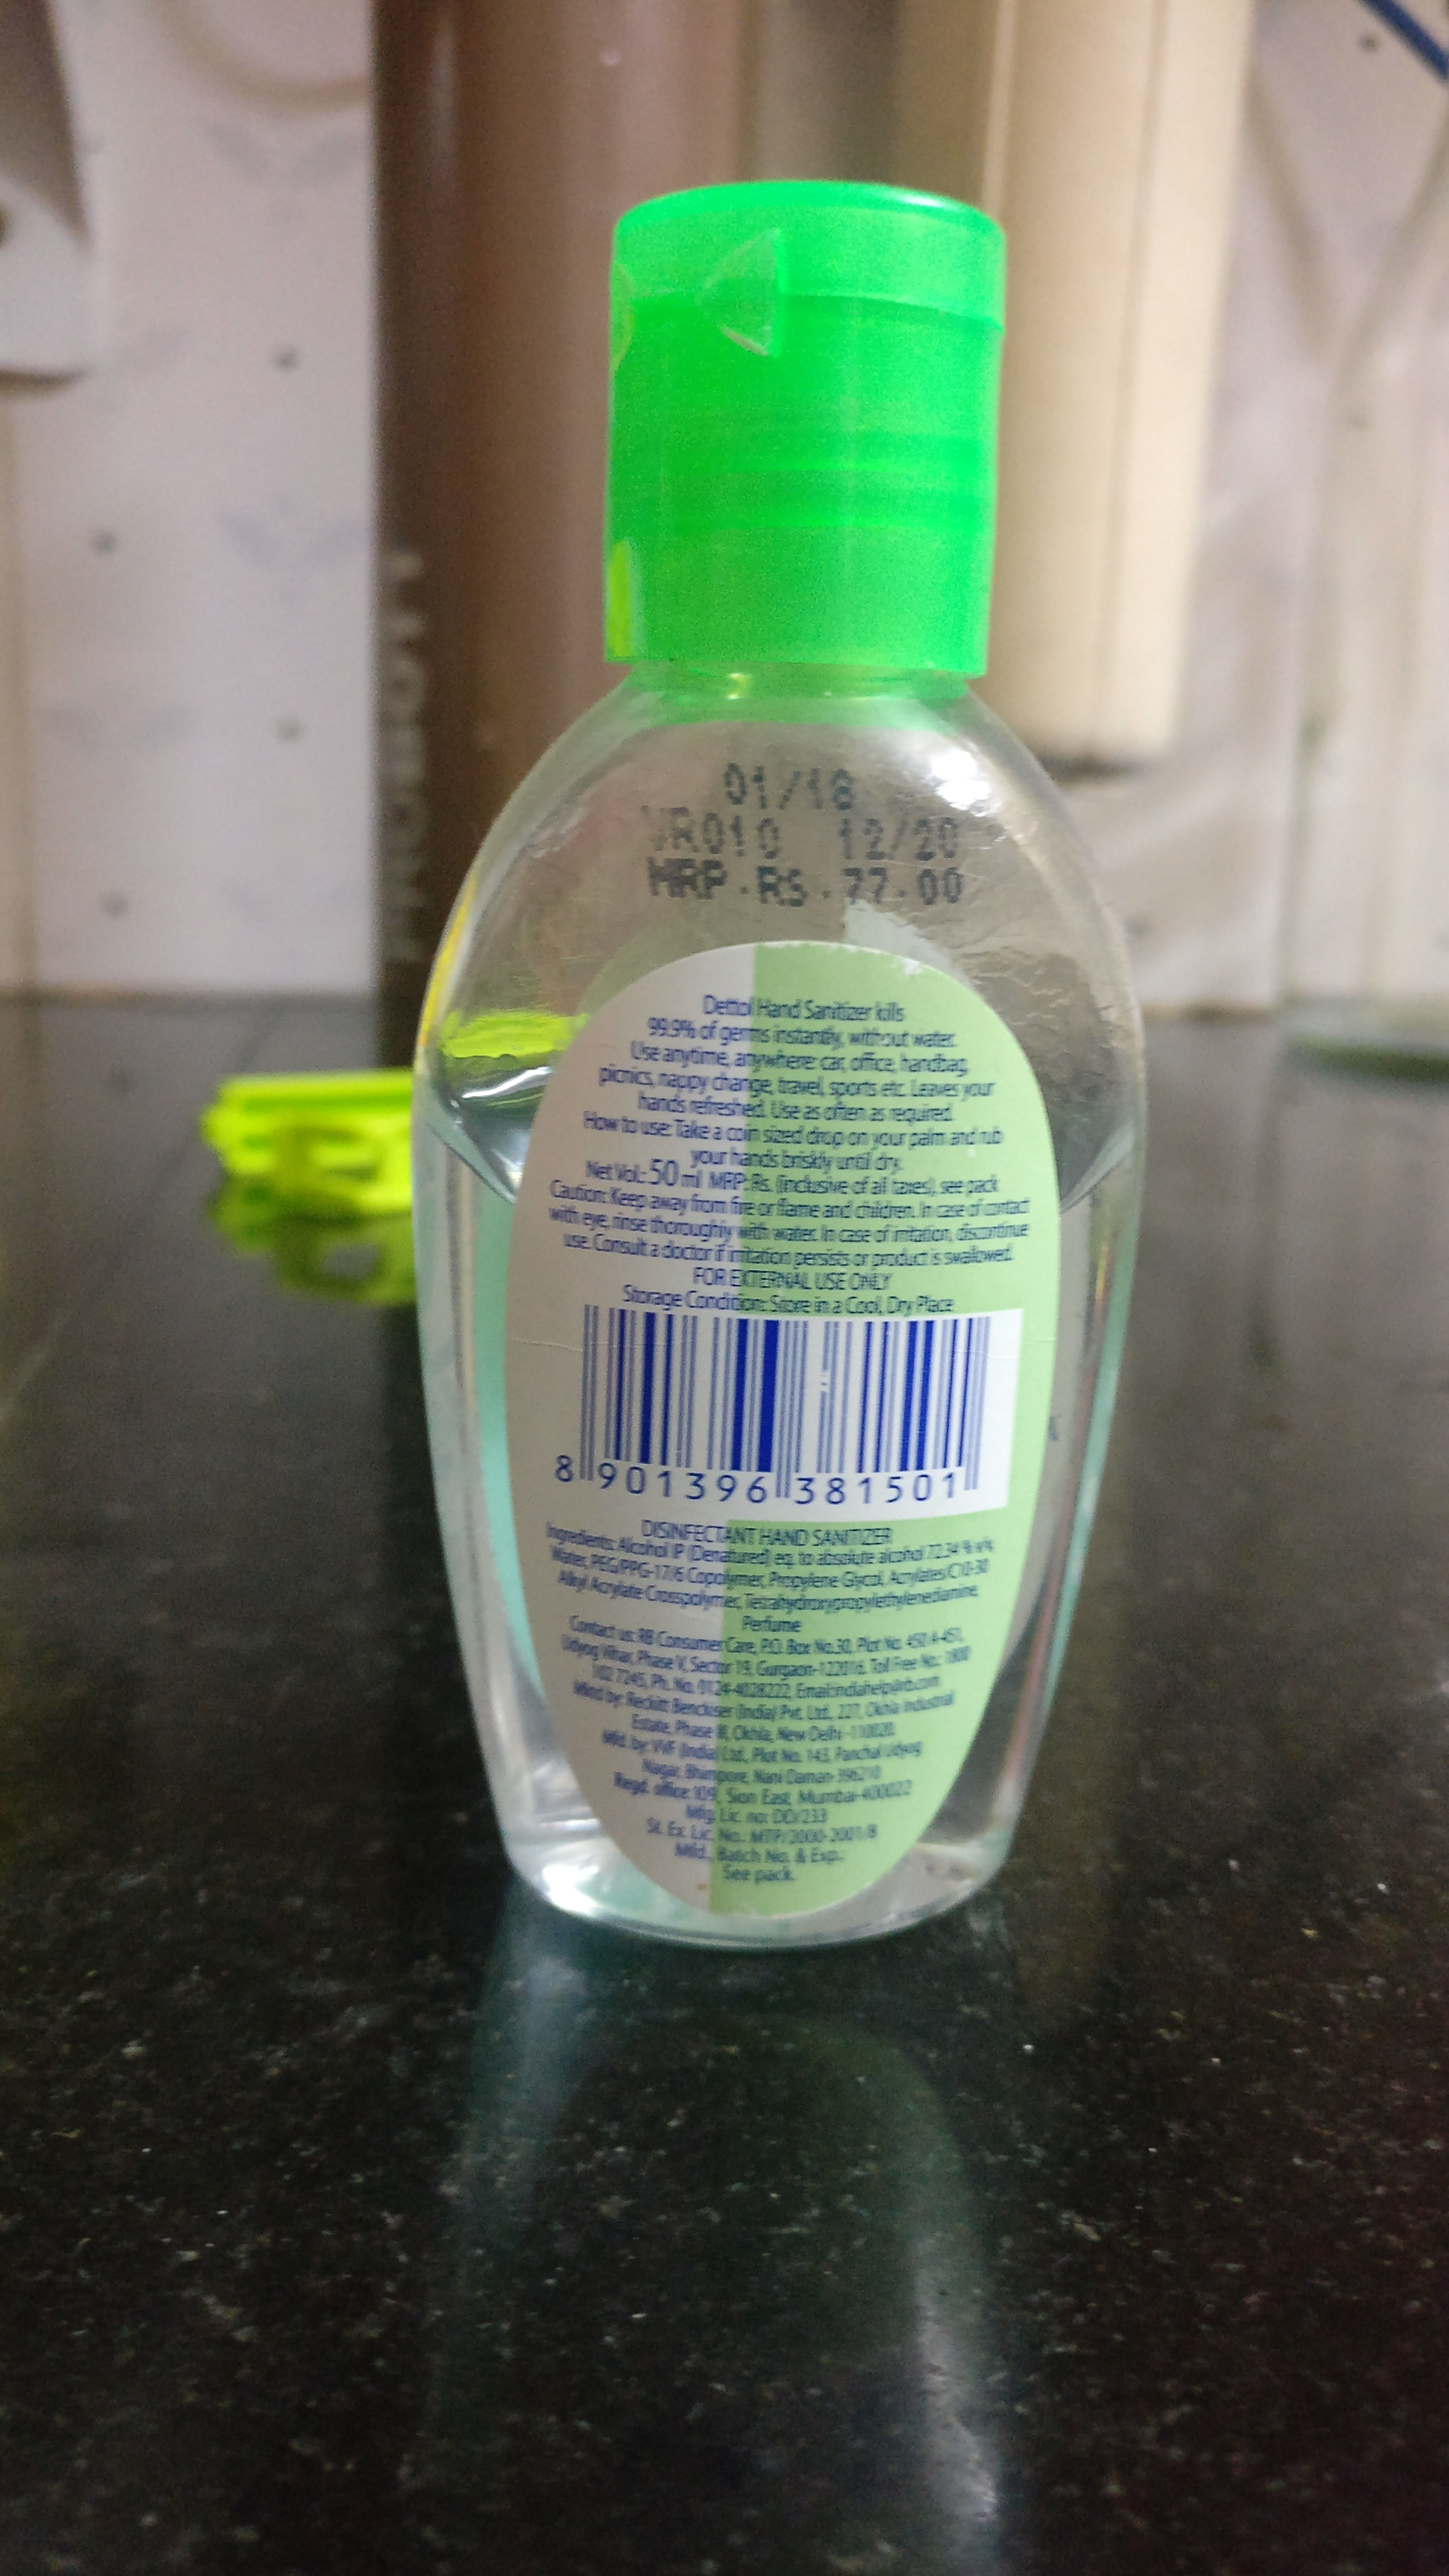barcode: (524, 1292, 1023, 1523)
